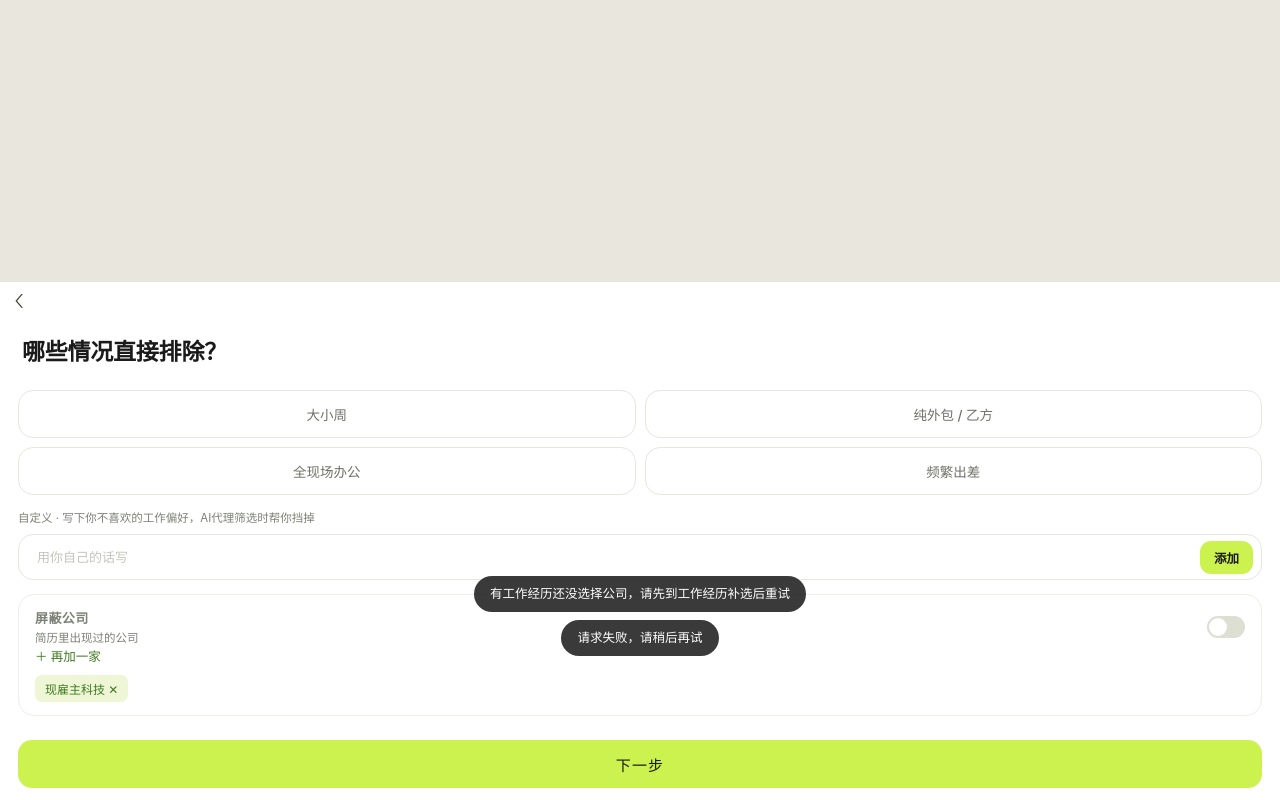
Test case: 引导问答 硬性排除：私有诉求与权威屏蔽（Task 7） › Backend 非手动来源的 chip 单击不解除，只说明须到屏蔽名单页处理
This screenshot has width=1280, height=800.
(page scrolled)
Click the button "现雇主科技 ✕".
click(82, 689)  # box top-left (35, 675), bottom-right (128, 702)
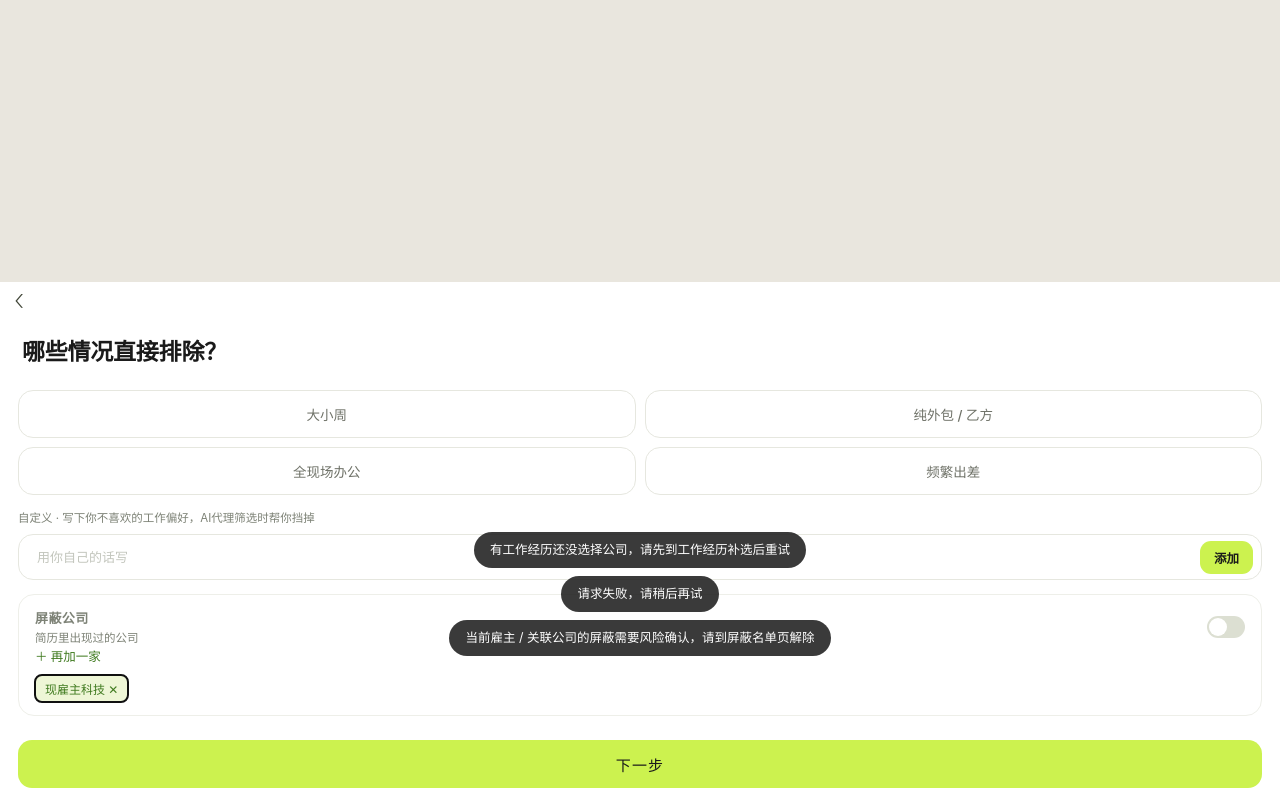
Now the text "需要风险确认" is shown, box top-left (466, 630), bottom-right (814, 645)
